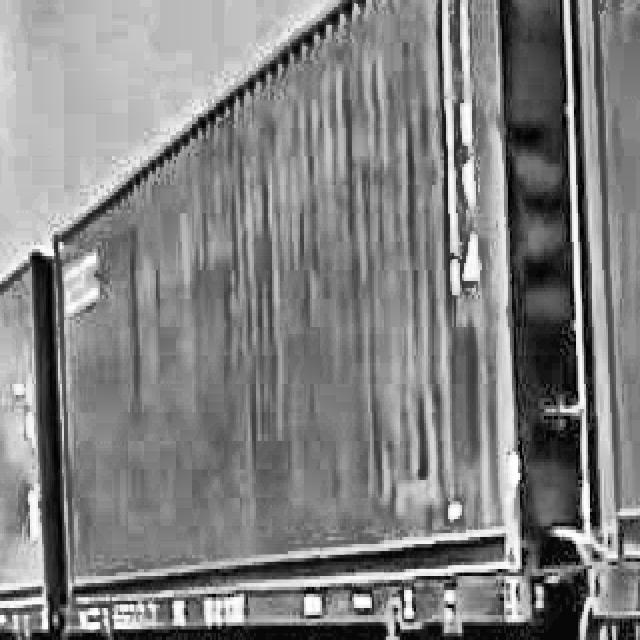Gerbong: (40, 0, 624, 640), (556, 0, 640, 640), (0, 231, 74, 640)
